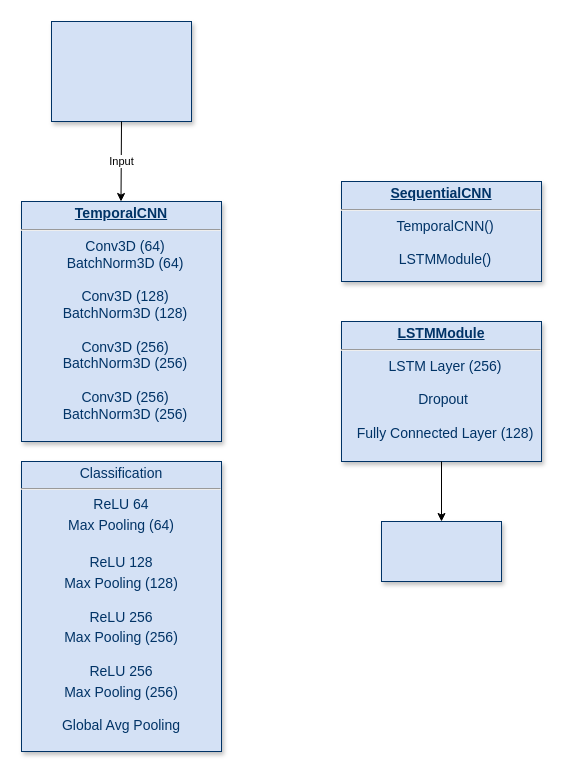
The diagram is 565 pixels wide and 776 high, and some of its shapes have lost their labels. Each missing label, with the centre of its shape:
"Image 51x38 Optical Flow Grayscale" belongs at pixel 122 72.
"Output (2)" belongs at pixel 442 552.
